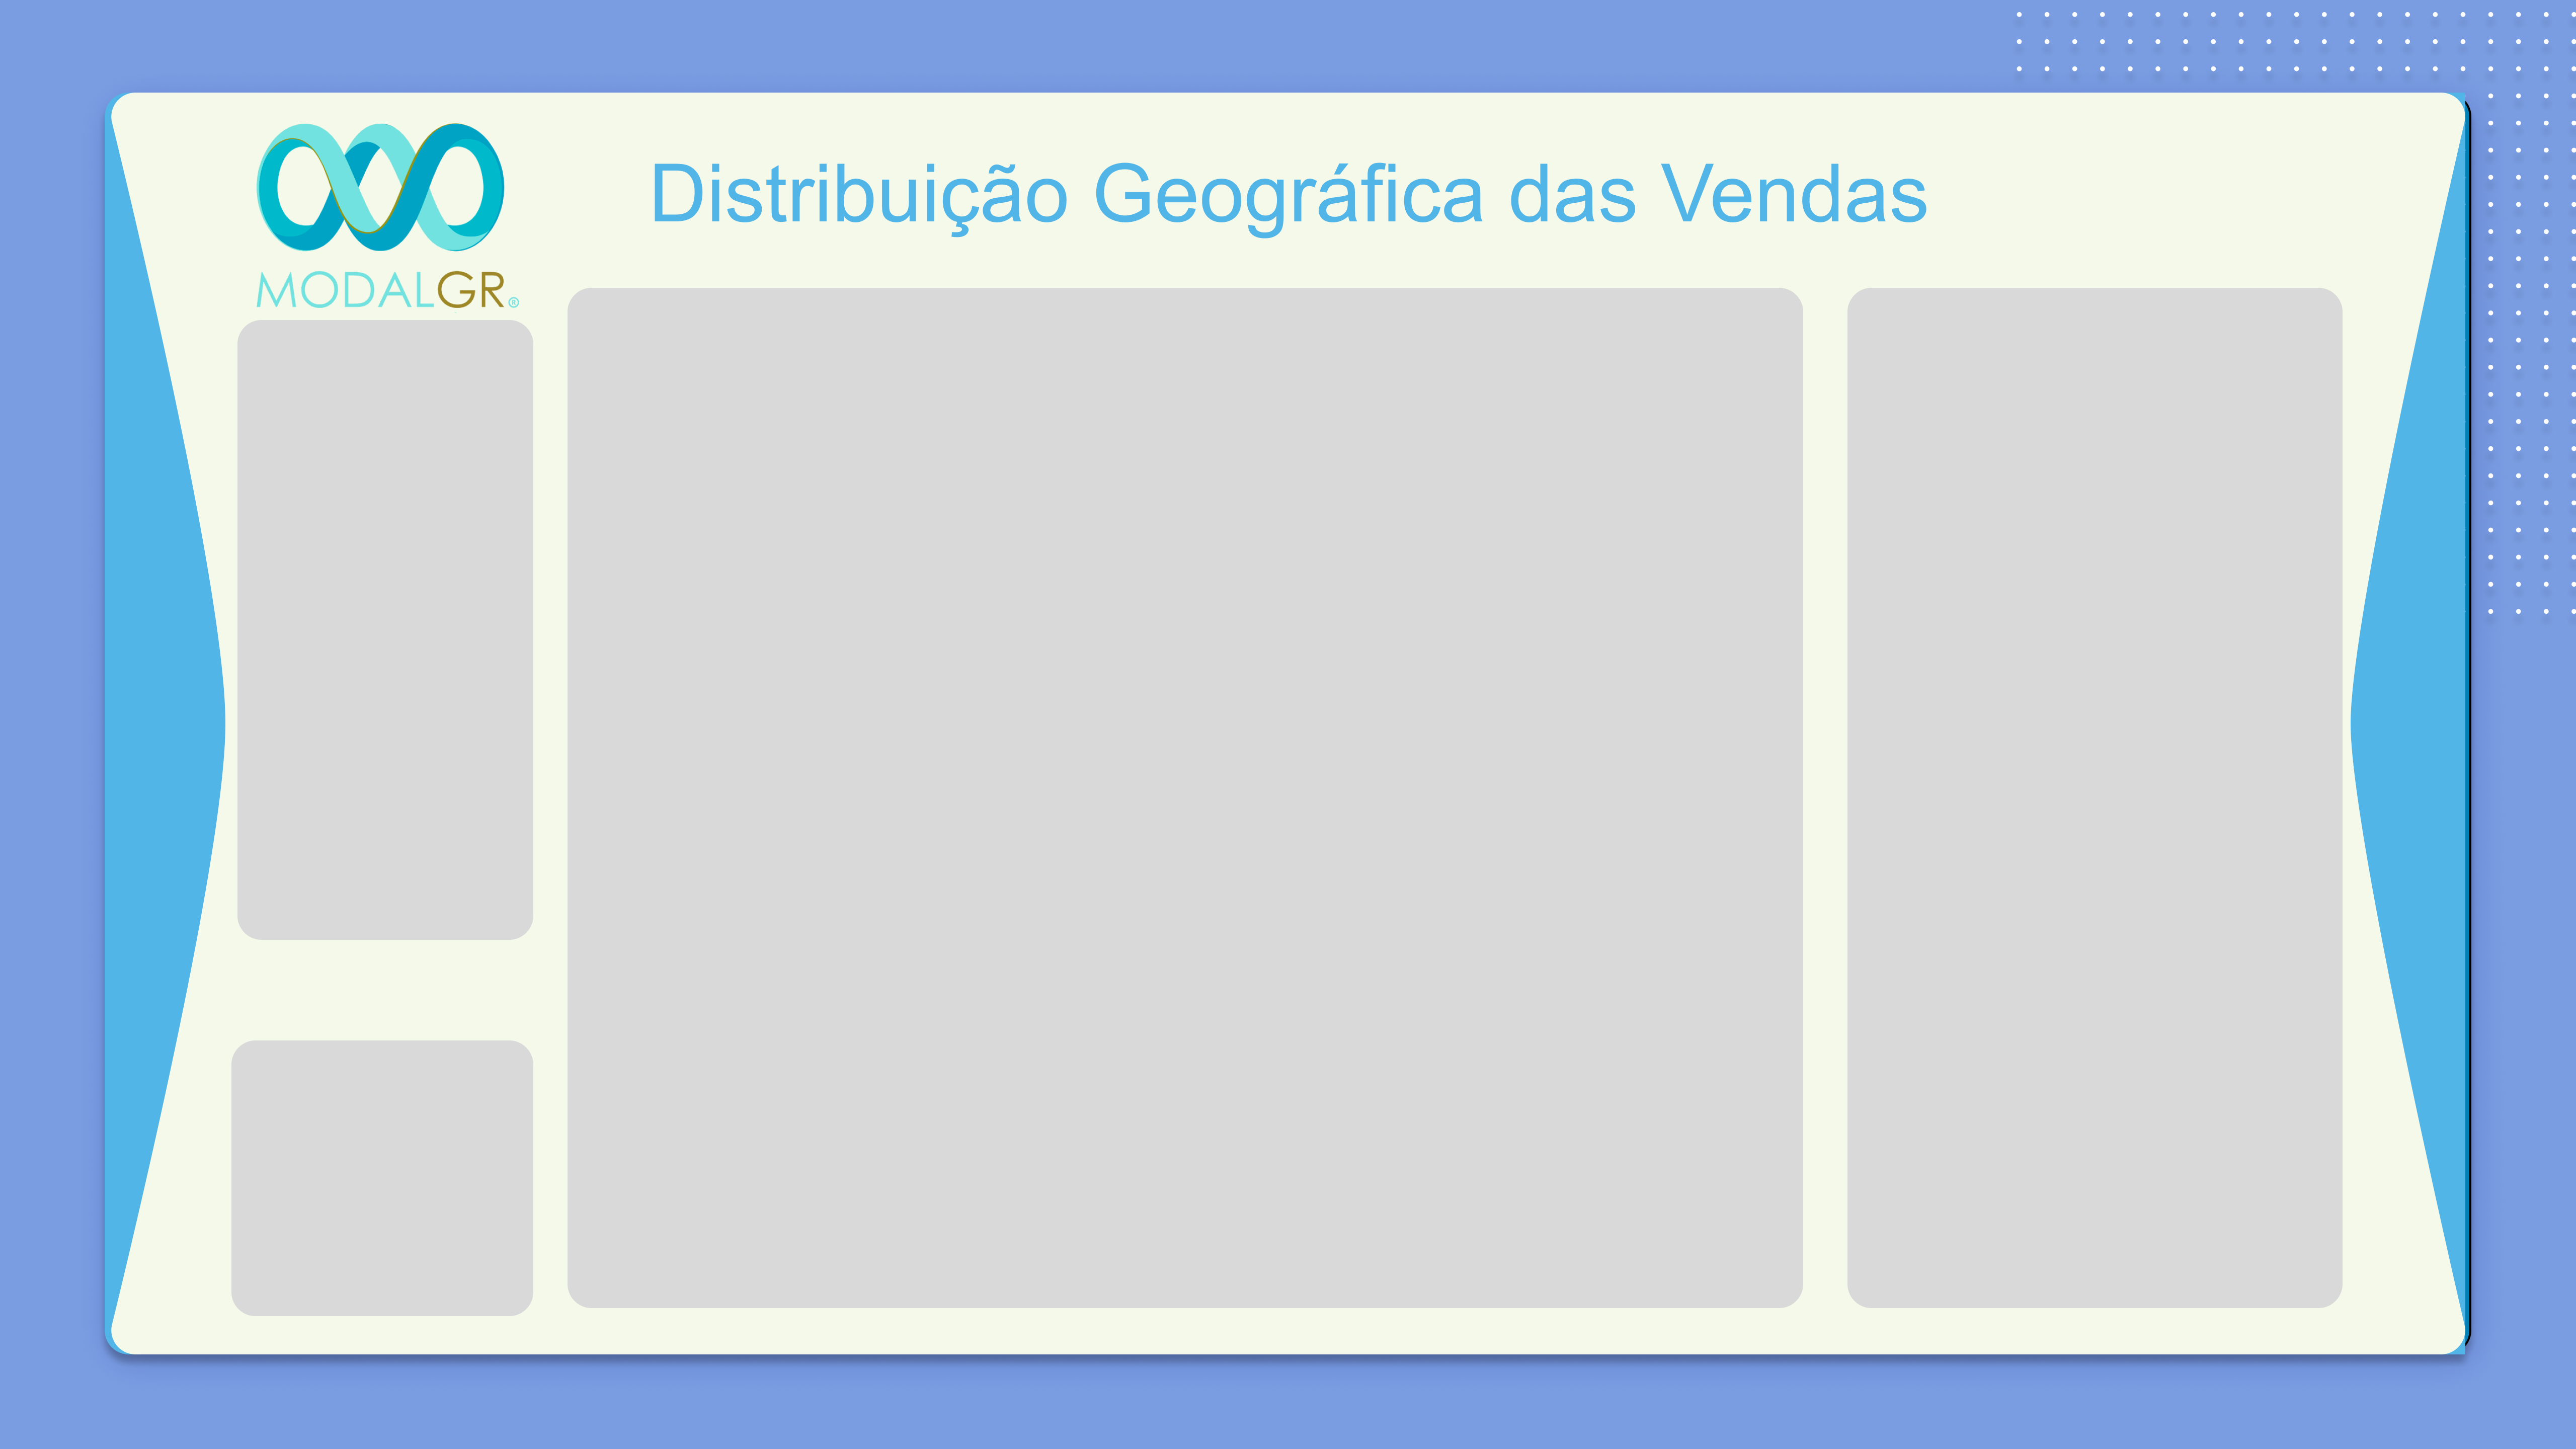

What the dashboard file says about the page in this screenshot:
{"tool":"powerbi","page":{"name":"Grupo de Análise 4: Distribuição Geográfica","canvas":[1280,720],"ordinal":3},"visuals":[{"type":"advancedSlicerVisual","title":"Estados","fields":{"Values":["Vendas.Estado"]},"box":[118.6,161.4,147.1,308.6],"z":0},{"type":"advancedSlicerVisual","title":"Cidades","fields":{"Values":["Vendas.Cidade"]},"box":[920,147.1,245.7,501.4],"z":1000},{"type":"lineClusteredColumnComboChart","fields":{"Category":["Vendas.Data Venda.Variation.Hierarquia de datas.Ano"],"Y":["Vendas.Lucro Total","Vendas.Custo Total","Vendas.Receita Total"]},"box":[280,141.4,614.3,507.1],"z":2000},{"type":"card","title":"Contagem Vendas","fields":{"Values":["Vendas.Total de Vendas"]},"box":[115.7,521.4,150,127.1],"z":3000},{"type":"actionButton","box":[60.9,340.2,39.7,39.7],"z":4000},{"type":"actionButton","box":[1172.1,340.2,42.5,39.7],"z":5000}]}

Visuals, with their boxes in screenshot pixels (x1, y1, x2, y2), scaled from the page's 1280x720 canvas onto the 2576x1449 screenshot:
"Estados" advancedSlicerVisual: detection(238, 325, 535, 946)
"Cidades" advancedSlicerVisual: detection(1852, 296, 2346, 1305)
lineClusteredColumnComboChart - Vendas.Data Venda.Variation.Hierarquia de datas.Ano x Vendas.Lucro Total: detection(563, 285, 1800, 1305)
"Contagem Vendas" card: detection(233, 1050, 535, 1305)
actionButton: detection(123, 685, 202, 765)
actionButton: detection(2359, 685, 2444, 765)
